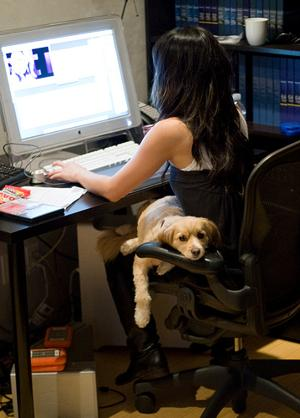person: (48, 30, 257, 384)
